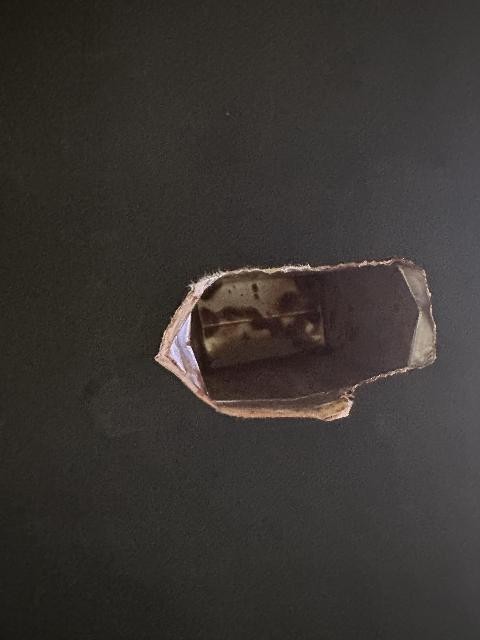Kagit: (152, 256, 440, 423)
